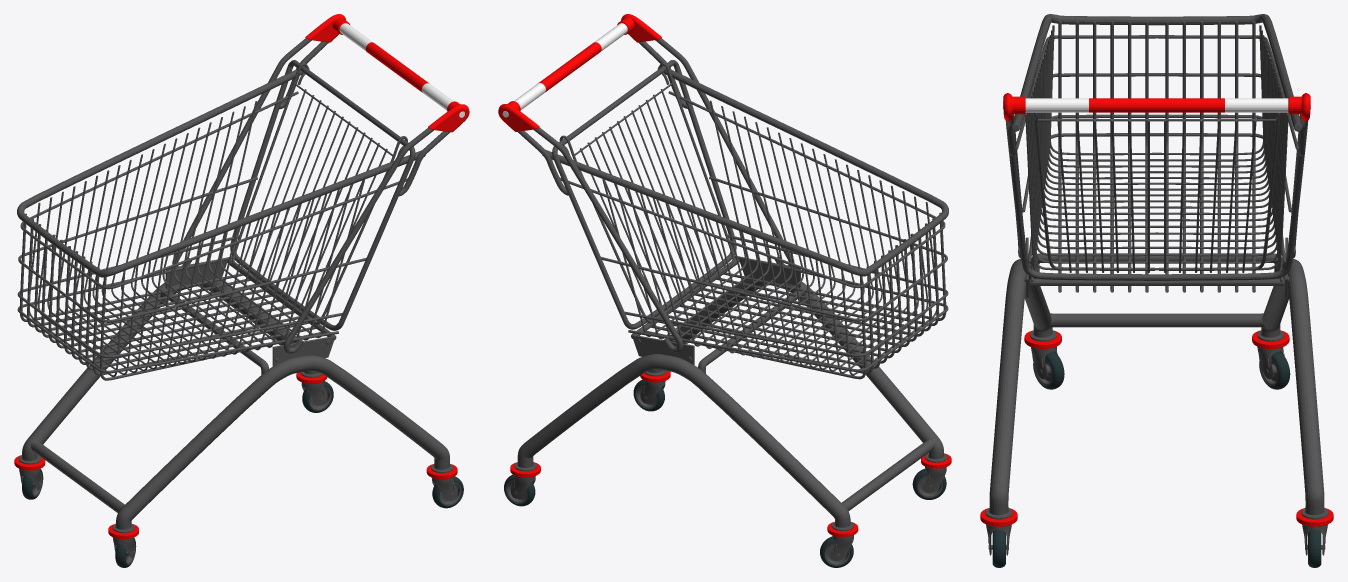
Rendered from cart.FBX.
3 views of the same model, side by side, from view 1: azimuth 30°, elevation 25°; view 2: azimuth 150°, elevation 25°; view 3: azimuth 270°, elevation 25° (orthographic). The views are drawn at different scales.
Visible parts, largest first — view 1: object0; view 2: object0; view 3: object0.
Part boxes in pixels (bbox=[...]): object0: bbox=[14, 14, 469, 567]; object0: bbox=[498, 14, 951, 567]; object0: bbox=[980, 14, 1333, 567].
Bounding box in the file's own units: 7.23 × 7.83 × 5.21.
